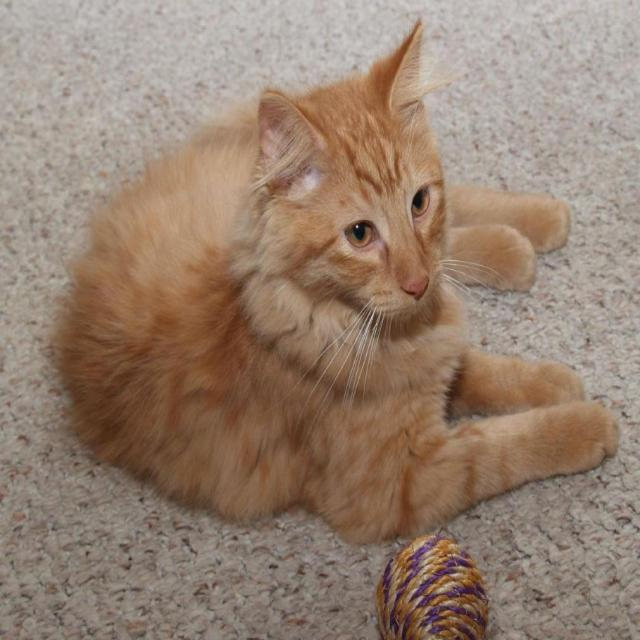Cat: (43, 14, 622, 552)
